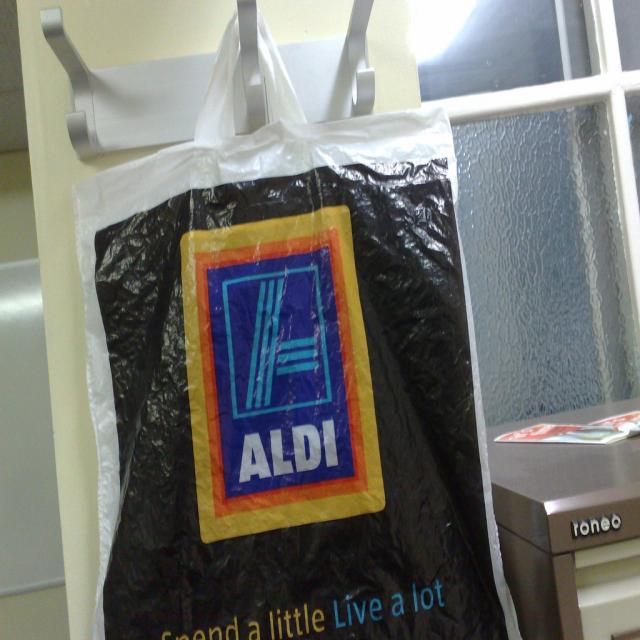aldi: (182, 207, 387, 545)
